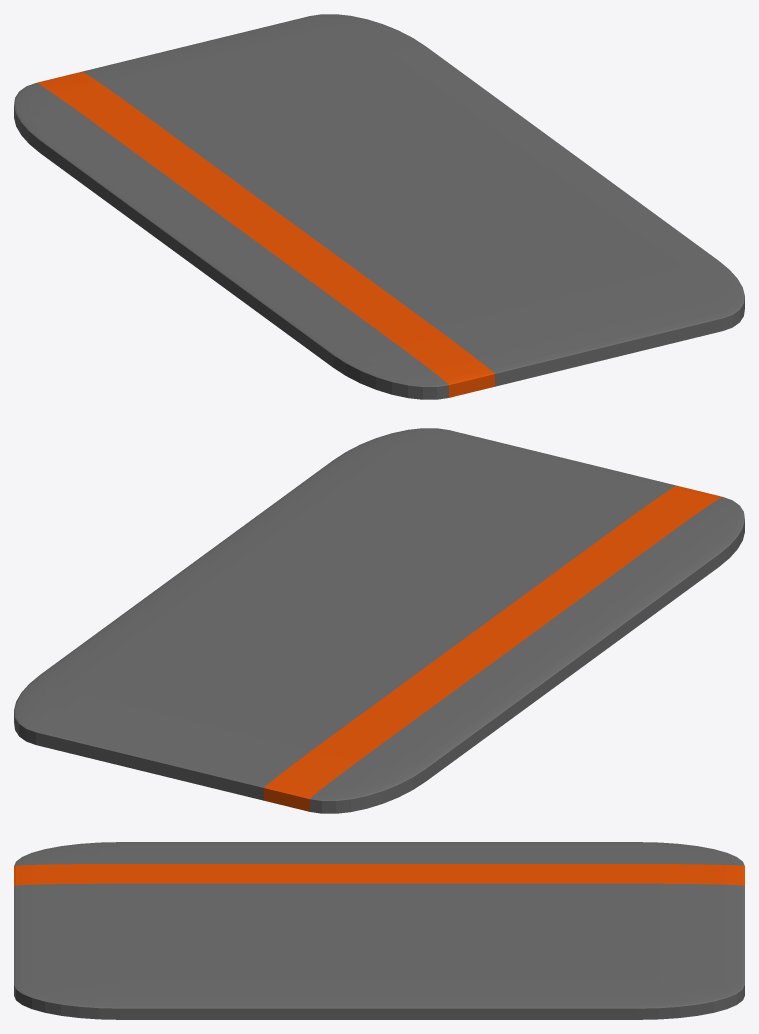
Rendered from OrangeKeyCard.glb.
The picture shows the model from 3 angles, top to bottom: view 1: azimuth 30°, elevation 25°; view 2: azimuth 150°, elevation 25°; view 3: azimuth 270°, elevation 25°; orthographic projection. The views are drawn at different scales.
Visible parts, largest first — view 1: Cube; view 2: Cube; view 3: Cube.
Boxes of the visible parts, x1,y1,x2,y2 form: Cube: [14, 14, 744, 399]; Cube: [14, 428, 744, 813]; Cube: [14, 842, 744, 1019].
Bounding box in the file's own units: 0.0525 × 0.00233 × 0.0974.
